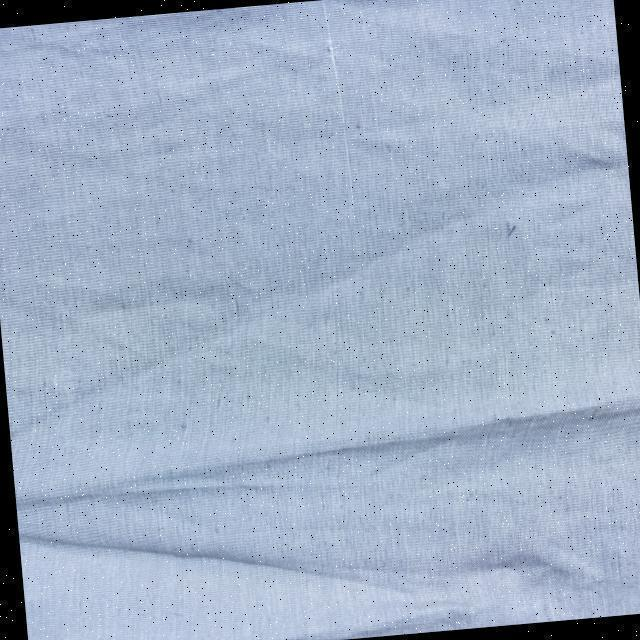broken_yarn: (131, 396, 640, 492)
